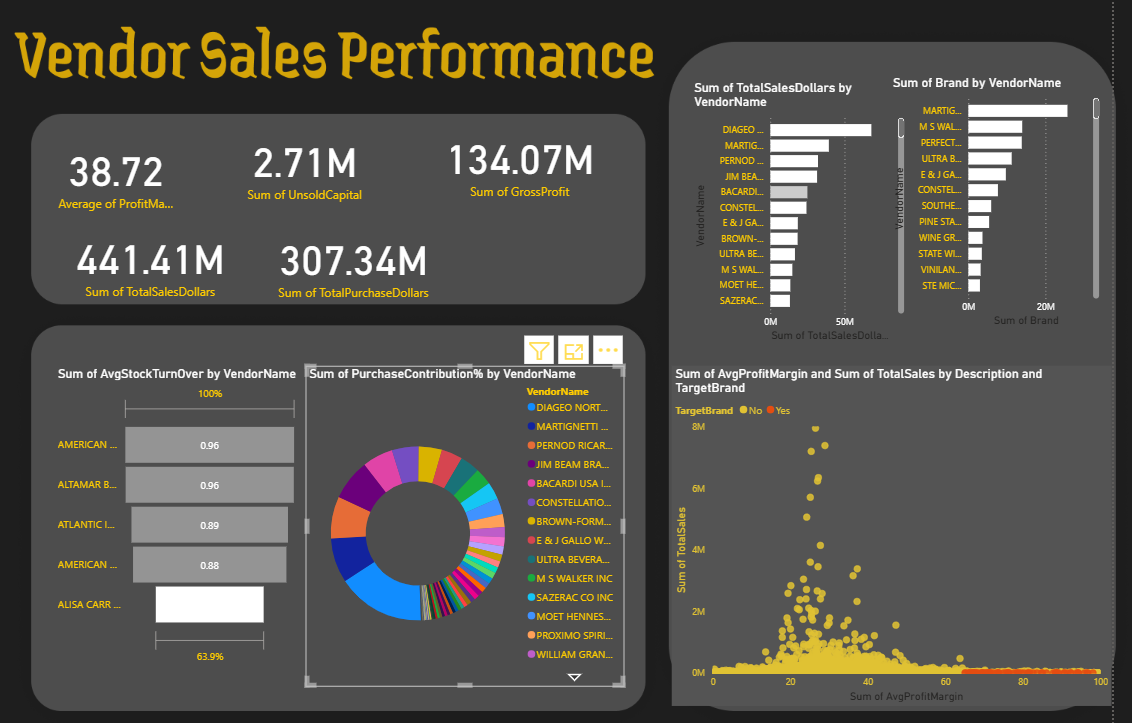

What the dashboard file says about the page in this screenshot:
{"tool":"powerbi","page":{"name":"Page 1","canvas":[1512,982],"ordinal":0},"visuals":[{"type":"card","fields":{"Values":["Sum(vendor_sales_summary.TotalSalesDollars)"]},"box":[118.3,293.3,223.3,121.7],"z":0},{"type":"card","fields":{"Values":["Sum(vendor_sales_summary.TotalPurchaseDollars)"]},"box":[393.3,303.3,215,103.3],"z":1000},{"type":"card","fields":{"Values":["Sum(vendor_sales_summary.GrossProfit)"]},"box":[608.3,163.3,228.3,115],"z":2000},{"type":"card","fields":{"Values":["Avg(vendor_sales_summary.ProfitMargin)"]},"box":[101.7,180,165,113.3],"z":3000},{"type":"card","fields":{"Values":["Sum(vendor_sales_summary.UnsoldCapital)"]},"box":[341.7,163.3,188.3,123.3],"z":4000},{"type":"donutChart","fields":{"Y":["Sum(purchaseContribution.PurchaseContribution%)"],"Category":["purchaseContribution.VendorName"]},"box":[448,554,426,428],"z":5000},{"type":"clusteredBarChart","fields":{"Category":["vendor_sales_summary.VendorName"],"Y":["Sum(vendor_sales_summary.TotalSalesDollars)"]},"box":[925,103.3,290,355],"z":6000},{"type":"clusteredBarChart","fields":{"Category":["vendor_sales_summary.VendorName"],"Y":["Sum(vendor_sales_summary.Brand)"]},"box":[1215,103.3,285,341.7],"z":7000},{"type":"funnel","fields":{"Y":["Sum(LowTurnoverVendor.AvgStockTurnOver)"],"Category":["LowTurnoverVendor.VendorName"]},"box":[86,560,362,422],"z":8000},{"type":"scatterChart","fields":{"X":["Sum(BrandPerformance.AvgProfitMargin)"],"Category":["BrandPerformance.Description"],"Series":["BrandPerformance.TargetBrand"],"Y":["Sum(BrandPerformance.TotalSales)"]},"box":[925,491.7,586.7,453.3],"z":8001}]}

Visuals, with their boxes in screenshot pixels (x1, y1, x2, y2), scaled from the page's 1512x982 canvas onto the 1132x723 screenshot:
card - Sum(vendor_sales_summary.TotalSalesDollars): rect(89, 216, 256, 306)
card - Sum(vendor_sales_summary.TotalPurchaseDollars): rect(294, 223, 455, 299)
card - Sum(vendor_sales_summary.GrossProfit): rect(455, 120, 626, 205)
card - Avg(vendor_sales_summary.ProfitMargin): rect(76, 133, 200, 216)
card - Sum(vendor_sales_summary.UnsoldCapital): rect(256, 120, 397, 211)
donutChart - Sum(purchaseContribution.PurchaseContribution%) x purchaseContribution.VendorName: rect(335, 408, 654, 722)
clusteredBarChart - vendor_sales_summary.VendorName x Sum(vendor_sales_summary.TotalSalesDollars): rect(693, 76, 910, 337)
clusteredBarChart - vendor_sales_summary.VendorName x Sum(vendor_sales_summary.Brand): rect(910, 76, 1123, 328)
funnel - Sum(LowTurnoverVendor.AvgStockTurnOver) x LowTurnoverVendor.VendorName: rect(64, 412, 335, 722)
scatterChart - Sum(BrandPerformance.AvgProfitMargin) x BrandPerformance.Description: rect(693, 362, 1131, 696)
